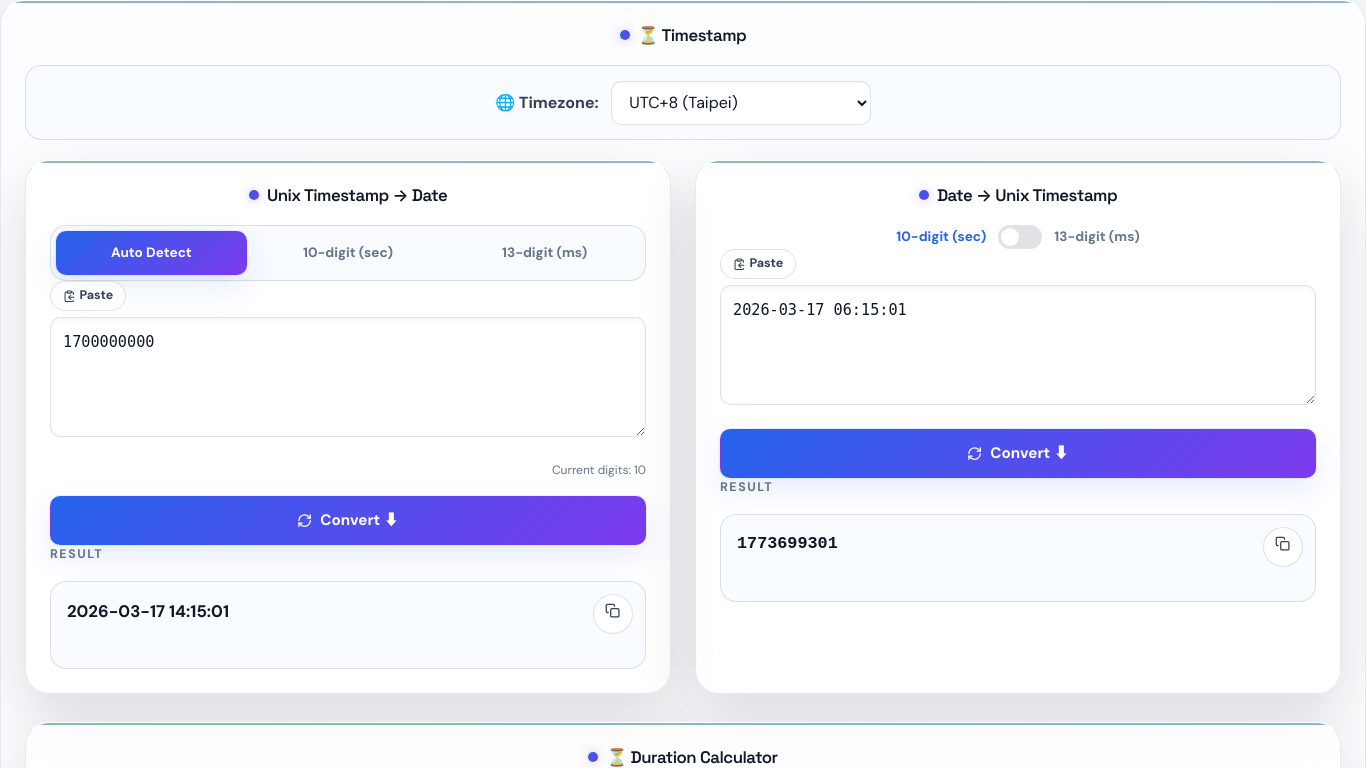
it: TimestampConverter.vue › 轉換功能 › 輸入 Timestamp 應能轉換
Step 1. Click the button "Convert ⬇" below "Current digits: 10" → (348, 520), box [50, 496, 646, 545]
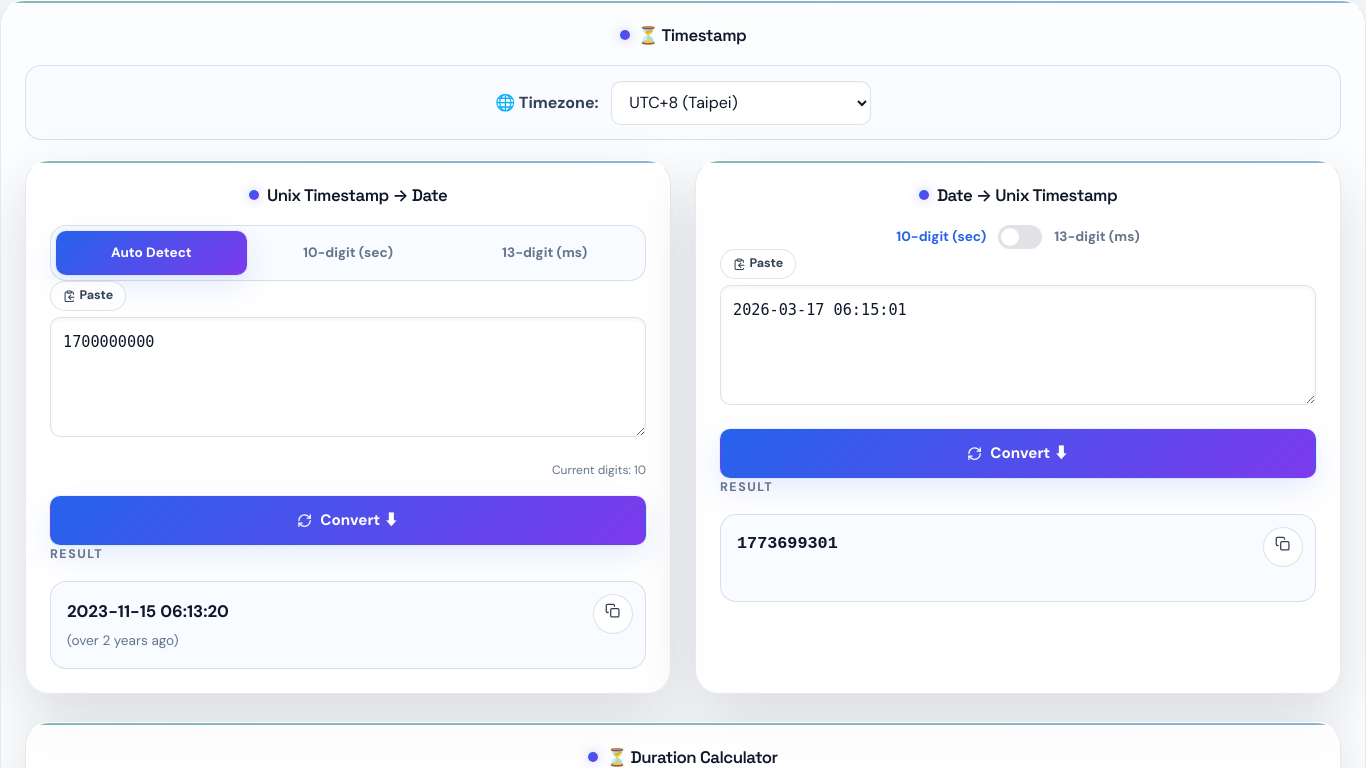
expect the text with class "result-text" shows "2023-11": met, box [67, 600, 229, 622]
